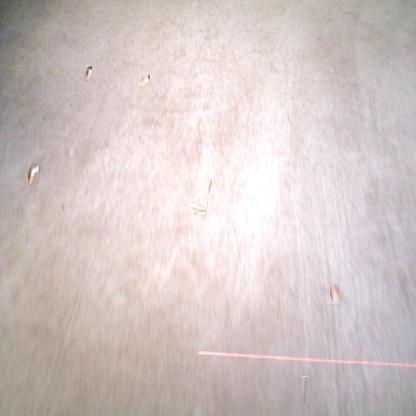dirty: (27, 162, 39, 184), (192, 199, 207, 214), (329, 284, 340, 304), (139, 73, 150, 86), (84, 65, 92, 80)
mark: (302, 376, 308, 403), (208, 178, 212, 194), (60, 202, 66, 212)
